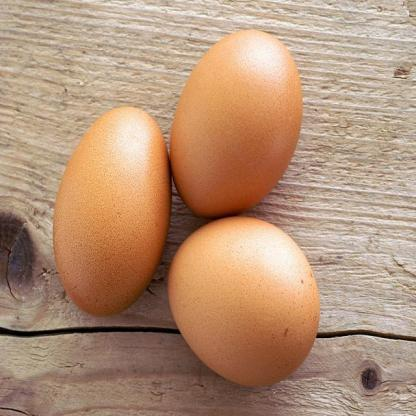egg: (160, 17, 332, 221), (164, 202, 330, 398), (53, 92, 178, 317)
